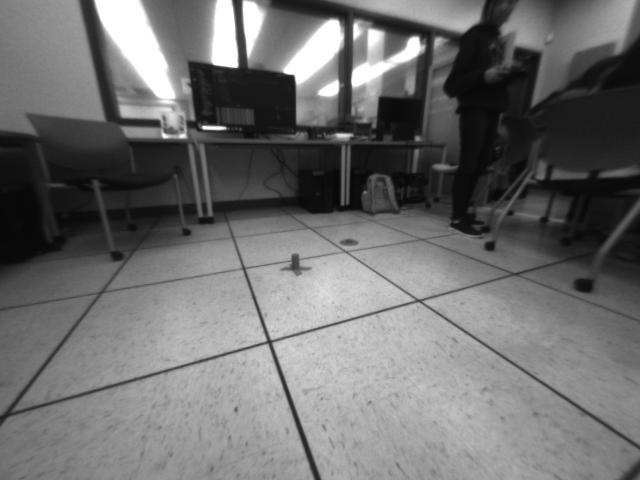X: (280, 253, 312, 277)
